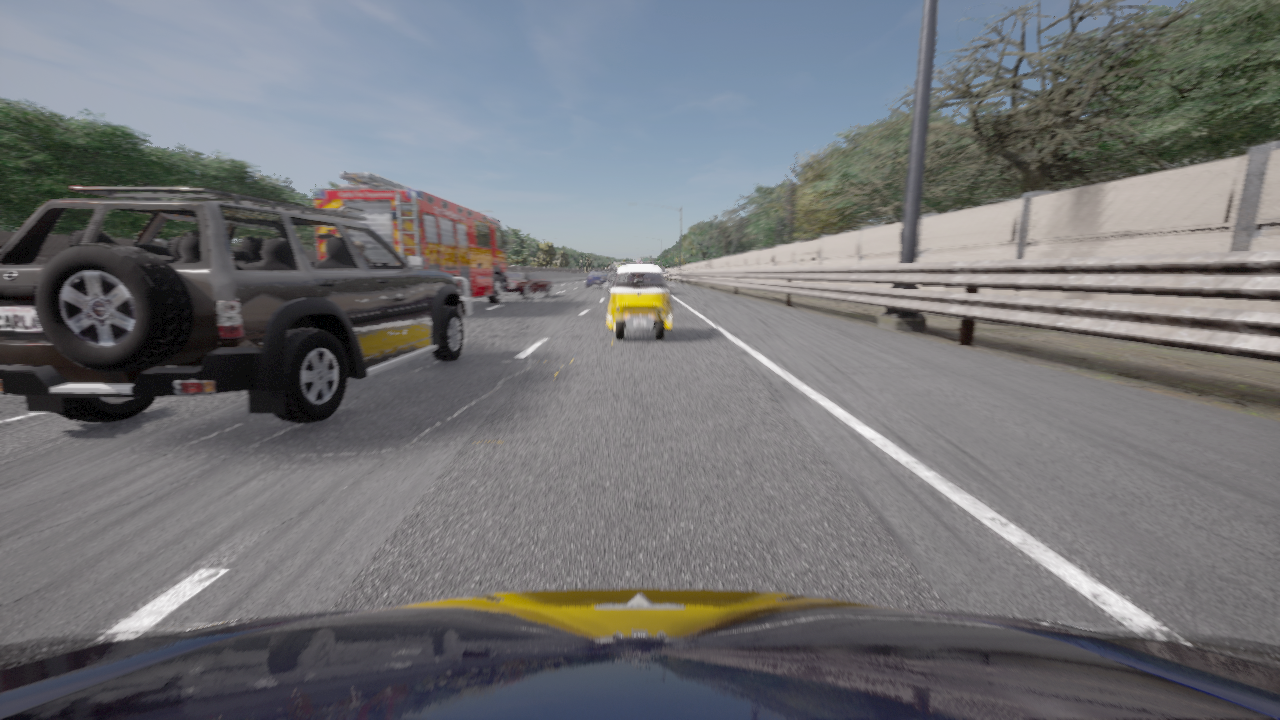cyclist: (0, 588, 1279, 719), (0, 186, 471, 423), (314, 172, 510, 303), (604, 265, 675, 340), (502, 272, 553, 298), (585, 271, 611, 287)
